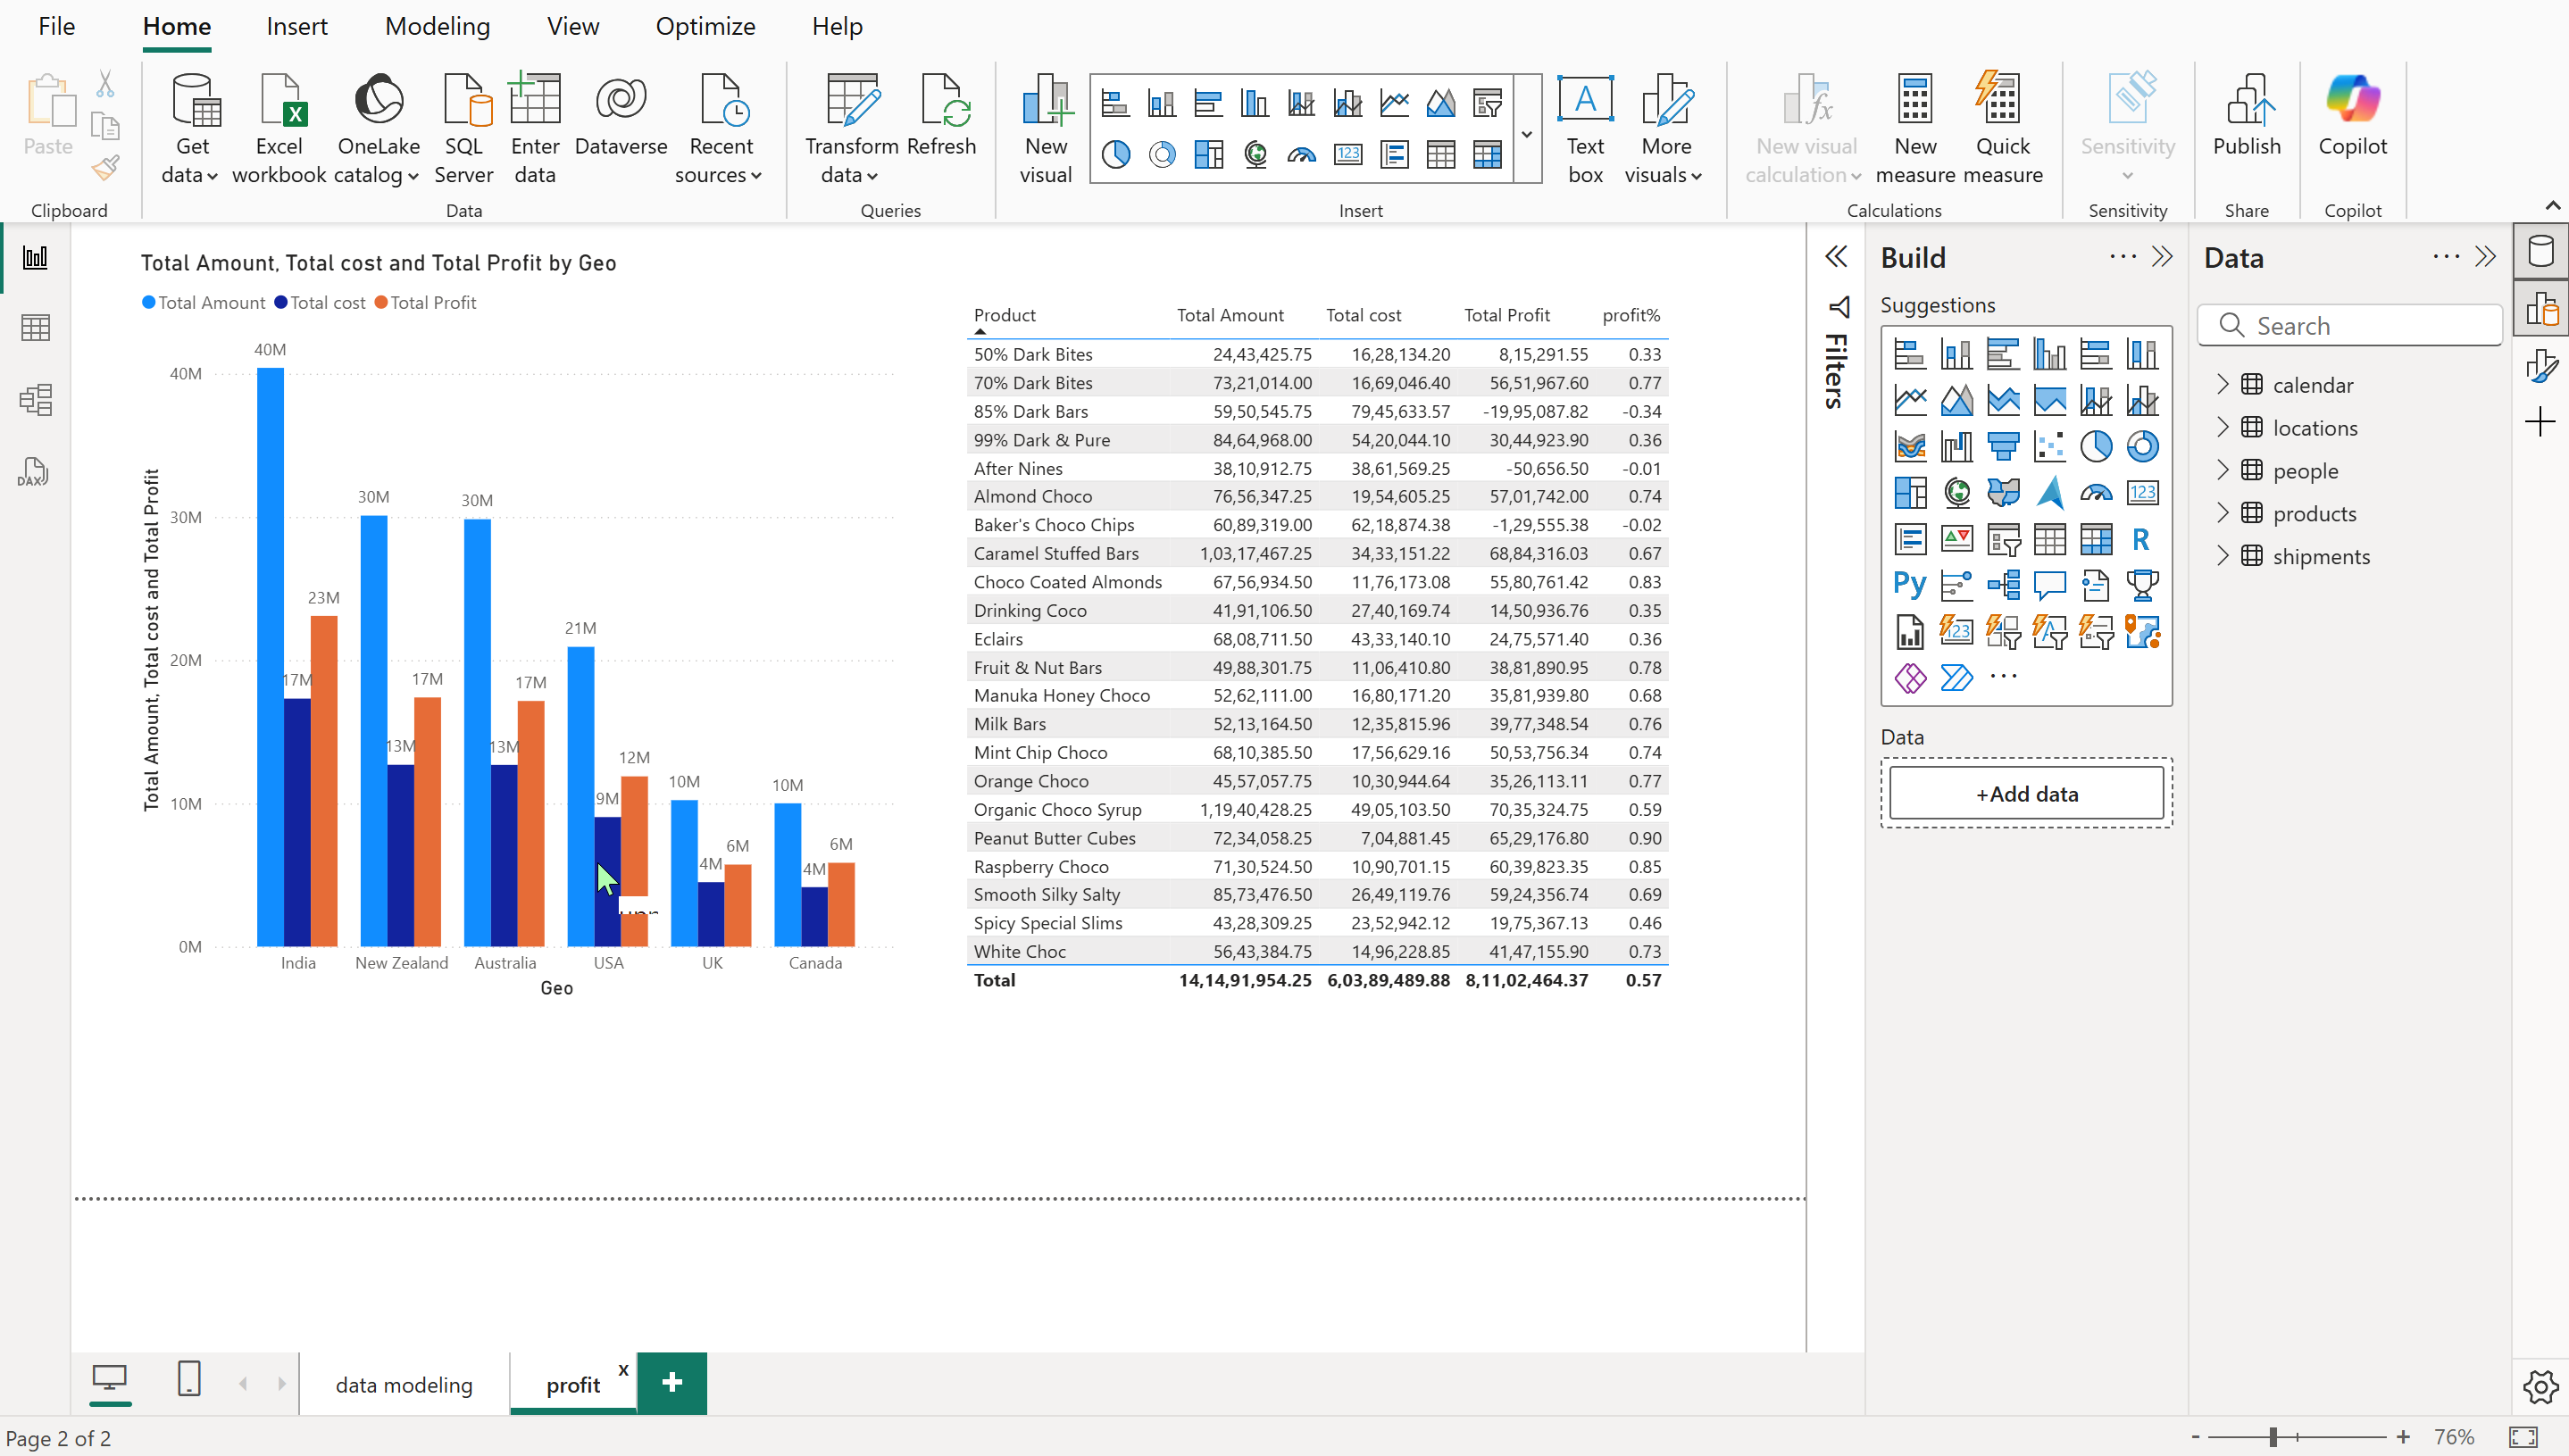

What the dashboard file says about the page in this screenshot:
{"tool":"powerbi","page":{"name":"profit","canvas":[1280,720],"ordinal":1},"visuals":[{"type":"clusteredColumnChart","fields":{"Category":["locations.Geo"],"Y":["shipments.Total Amount","shipments.Total cost","shipments.Total Profit"]},"box":[46.2,20,570,558.8],"z":0},{"type":"tableEx","fields":{"Values":["products.Product","shipments.Total Amount","shipments.Total cost","shipments.Total Profit","shipments.profit%"]},"box":[655.7,52.9,560,550],"z":1}]}

Visuals, with their boxes on the page's 1280x720 design canvas (x1, y1, x2, y2). These are canvas units, not pixel positions in the 2569x1456 screenshot, which may show the page scaled, cropped or inside an application window:
clusteredColumnChart - locations.Geo x shipments.Total Amount: bbox(46, 20, 616, 579)
tableEx - products.Product x shipments.Total Amount: bbox(656, 53, 1216, 603)
